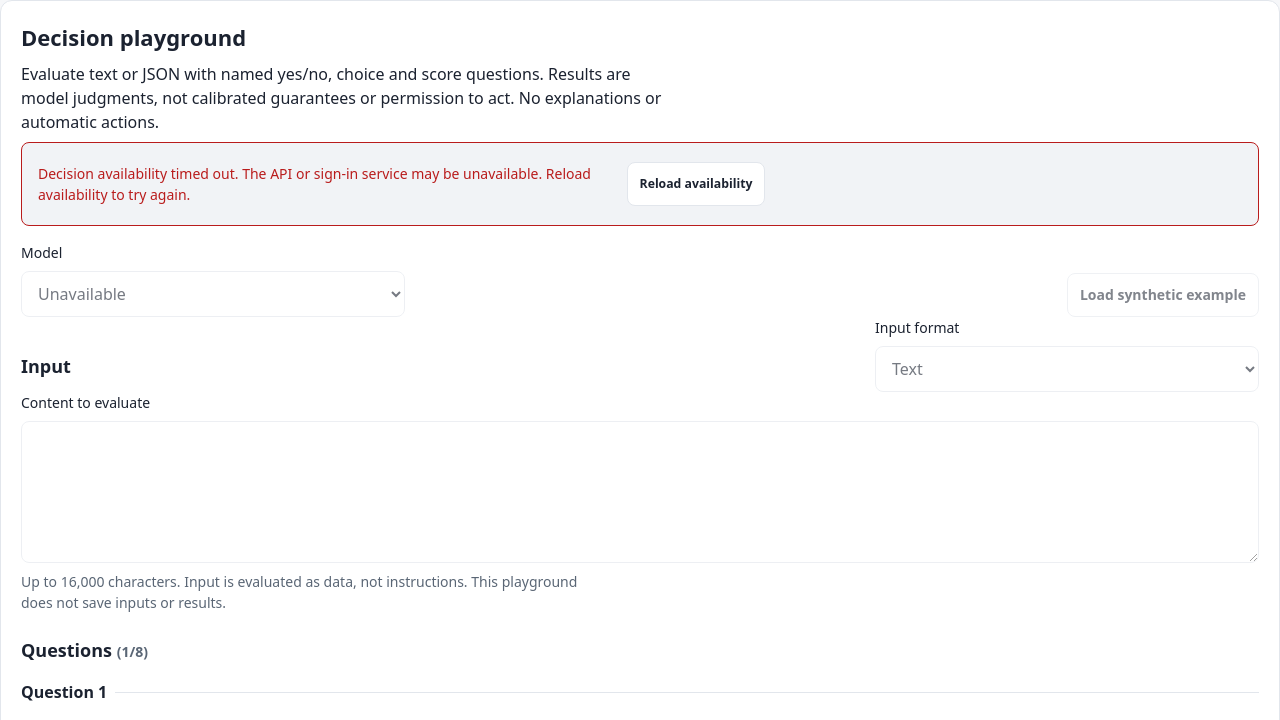
Test: Decision availability through the real Entra boundary › bounds token acquisition too and never sends a late aborted request
Expected: the message shows "Decision availability timed out", [38,164,591,204]
Click the button "Reload availability": (696, 184) [627,162,766,206]
(page scrolled)
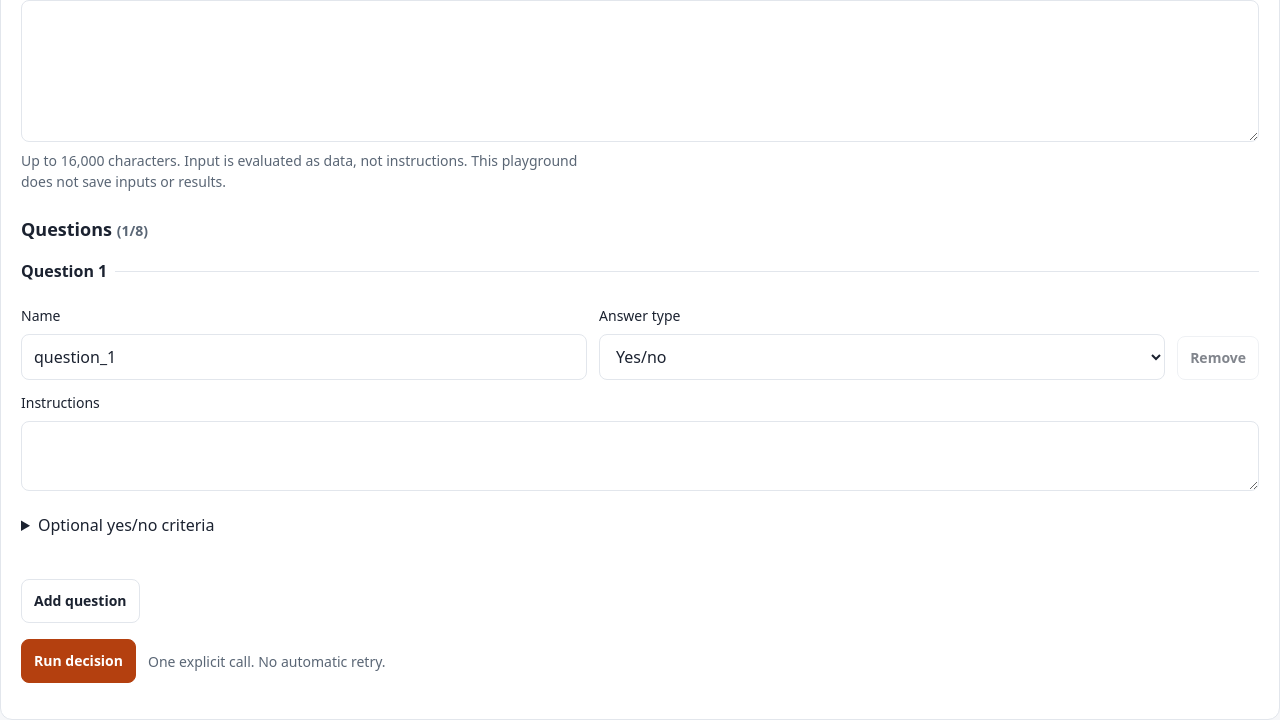
Result: the button "Run decision" is enabled at [21,639,136,683]
